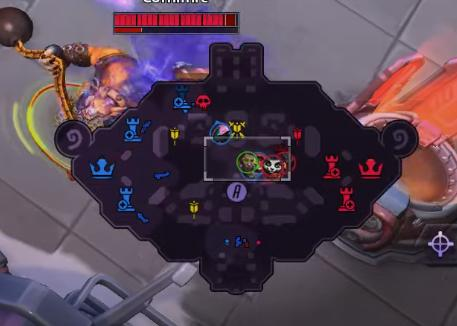blue nexus: (88, 156, 115, 178)
blue tower: (123, 116, 143, 142), (117, 185, 135, 211)
red nexus: (357, 157, 384, 178)
red tower: (337, 186, 355, 211), (323, 153, 340, 178)
